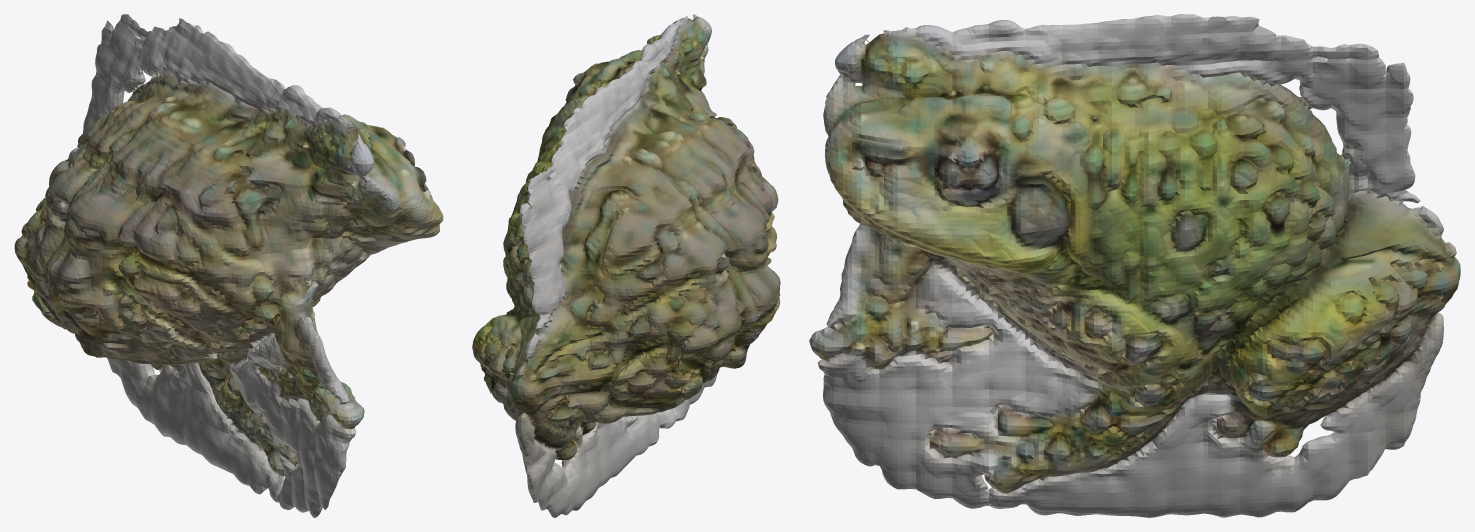
3 views of the same model, side by side, from view 1: azimuth 30°, elevation 25°; view 2: azimuth 150°, elevation 25°; view 3: azimuth 270°, elevation 25° (orthographic). The views are drawn at different scales.
Visible parts, largest first — view 1: model.obj; view 2: model.obj; view 3: model.obj.
Part boxes in pixels (<box>): model.obj: <box>14,14,443,517</box>; model.obj: <box>472,14,780,517</box>; model.obj: <box>809,14,1460,517</box>.
Bounding box in the file's own units: 0.6333 × 0.8501 × 0.9742.
